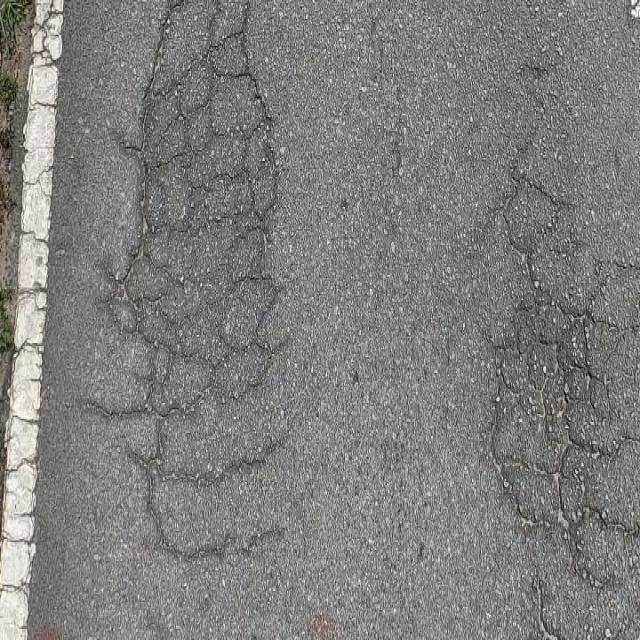cracks: (64, 0, 336, 595), (447, 56, 640, 601)
